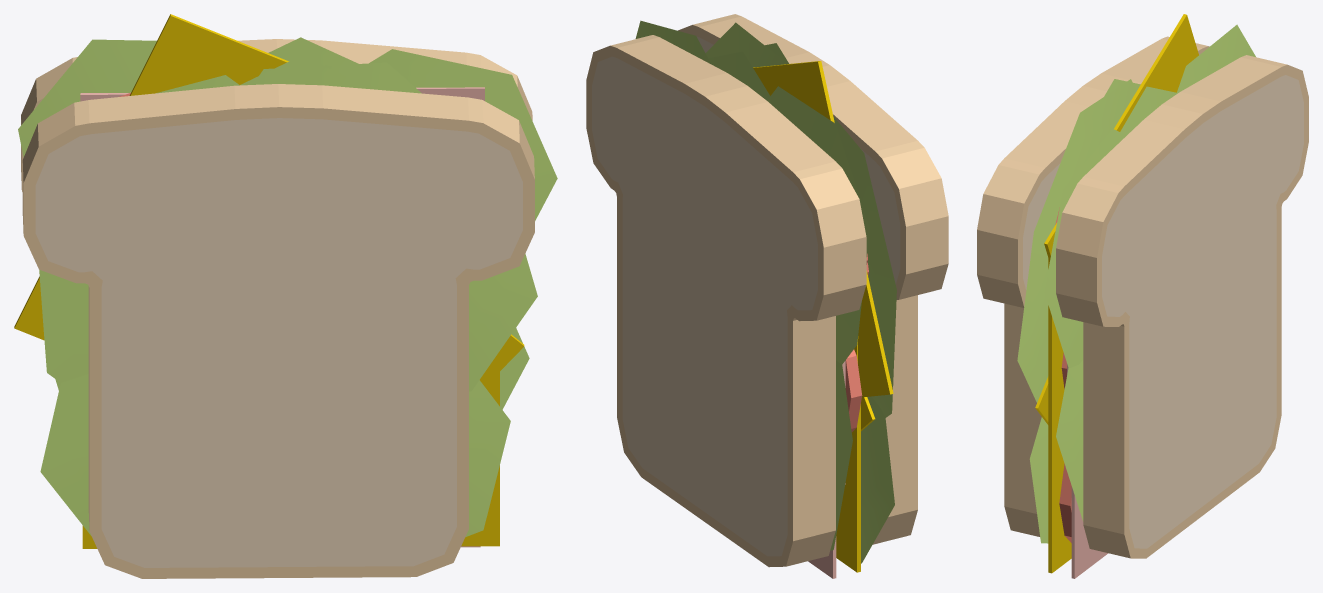
Rendered from sandwich (1).fbx.
3 views of the same model, side by side, from view 1: azimuth 30°, elevation 25°; view 2: azimuth 150°, elevation 25°; view 3: azimuth 270°, elevation 25° (orthographic). The views are drawn at different scales.
Parts seen in each view (by area): view 1: Sandwich; view 2: Sandwich; view 3: Sandwich.
Part boxes in pixels (box(x1,y1,x2,y2)): Sandwich: box(14, 14, 557, 578); Sandwich: box(586, 14, 948, 578); Sandwich: box(977, 14, 1308, 578).
Bounding box in the file's own units: 1.77 × 2.09 × 1.31.
